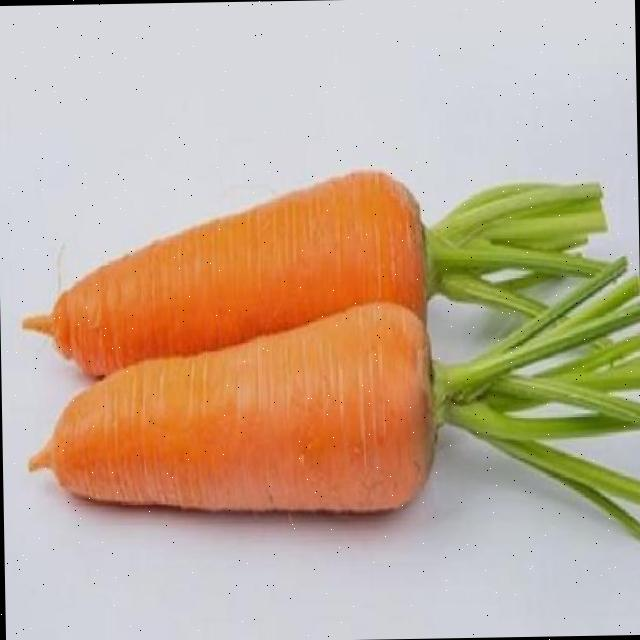carrot: (30, 260, 640, 536), (24, 171, 607, 374)
